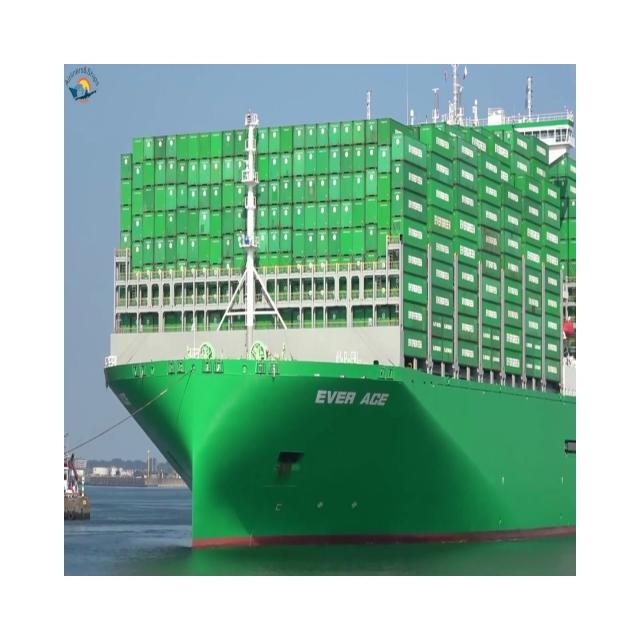OCR: (308, 375, 395, 428)
